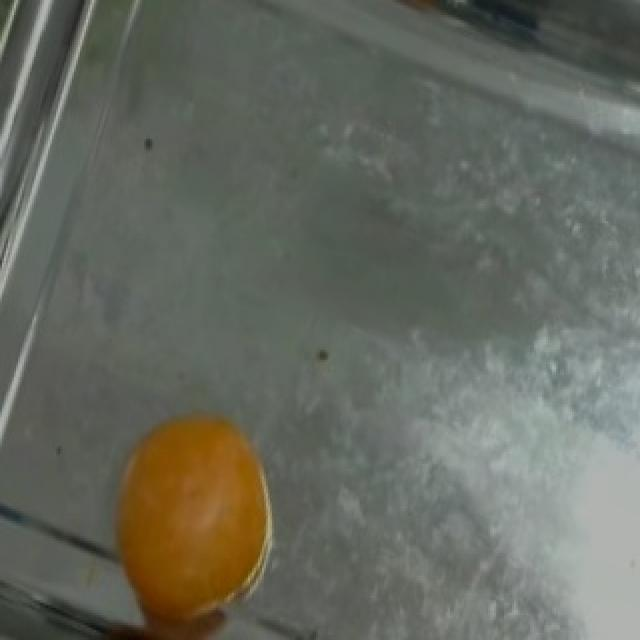Fruit: (86, 394, 300, 638)
